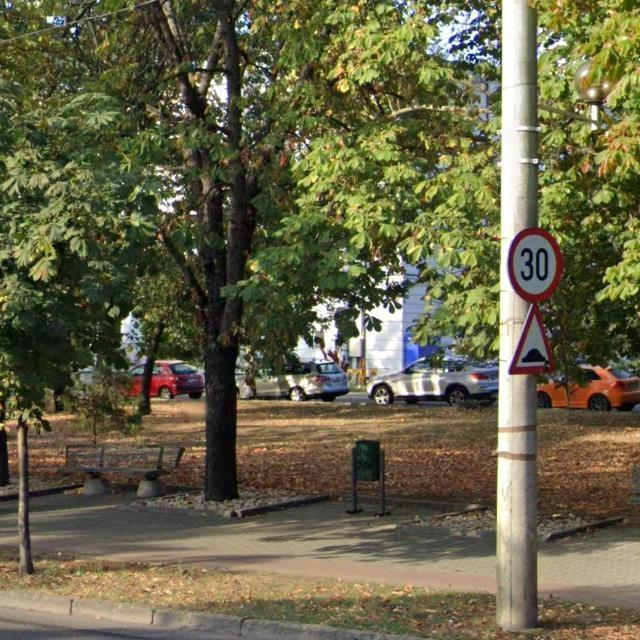forb_speed_over_30: (507, 226, 561, 302)
